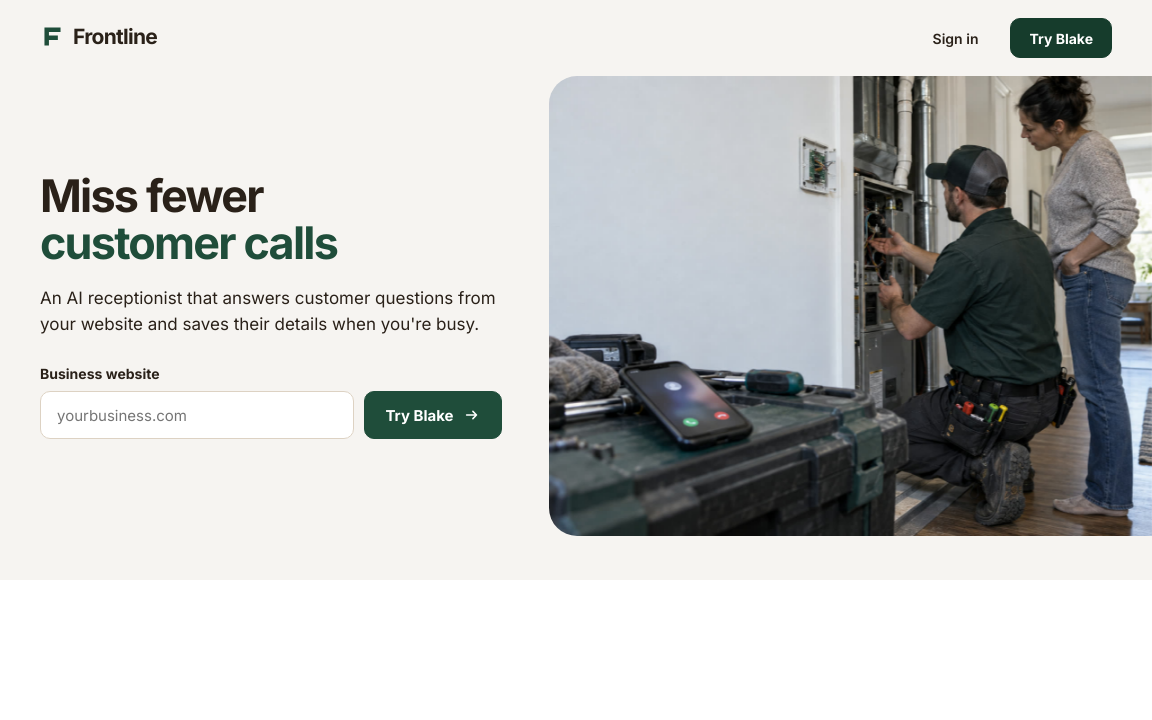
Test: aborts preparation and ignores its late response after the visitor changes the website
Later steps or results of the test are not shown.
Type "first.example.org" into the field labelled "Business website". click: (197, 415)
box: left=40, top=391, right=354, bottom=439
Then press Enter
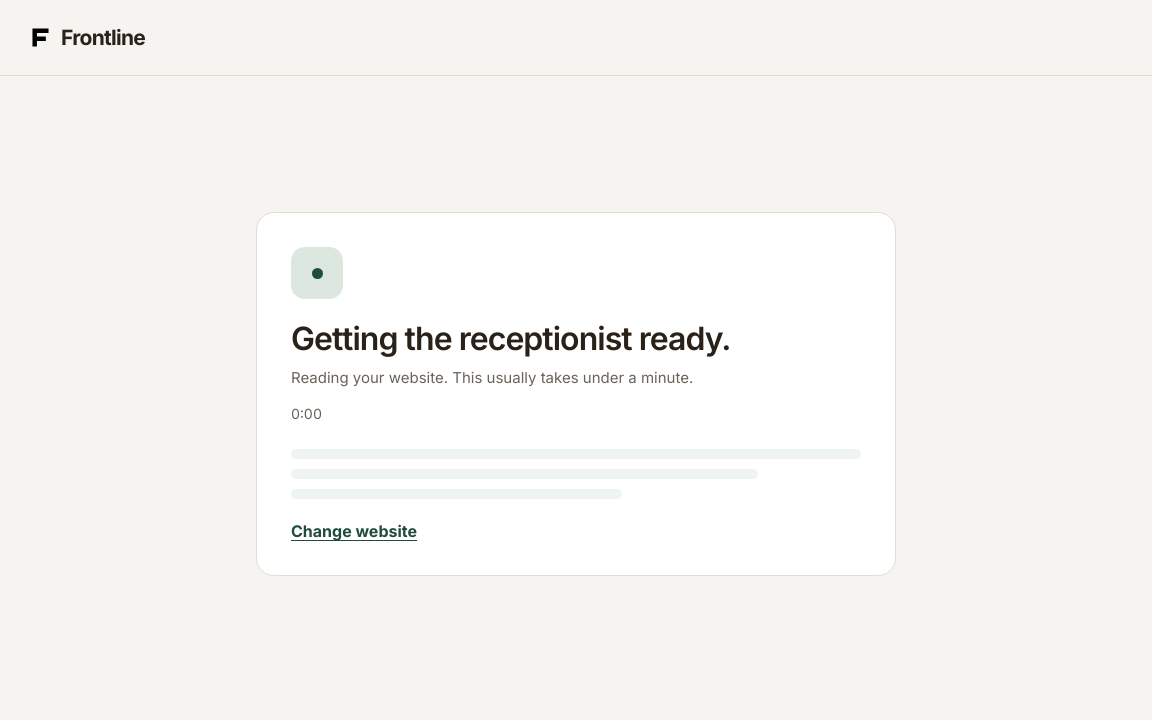
Click the button "Change website". click: (354, 531)
box: left=291, top=521, right=417, bottom=541
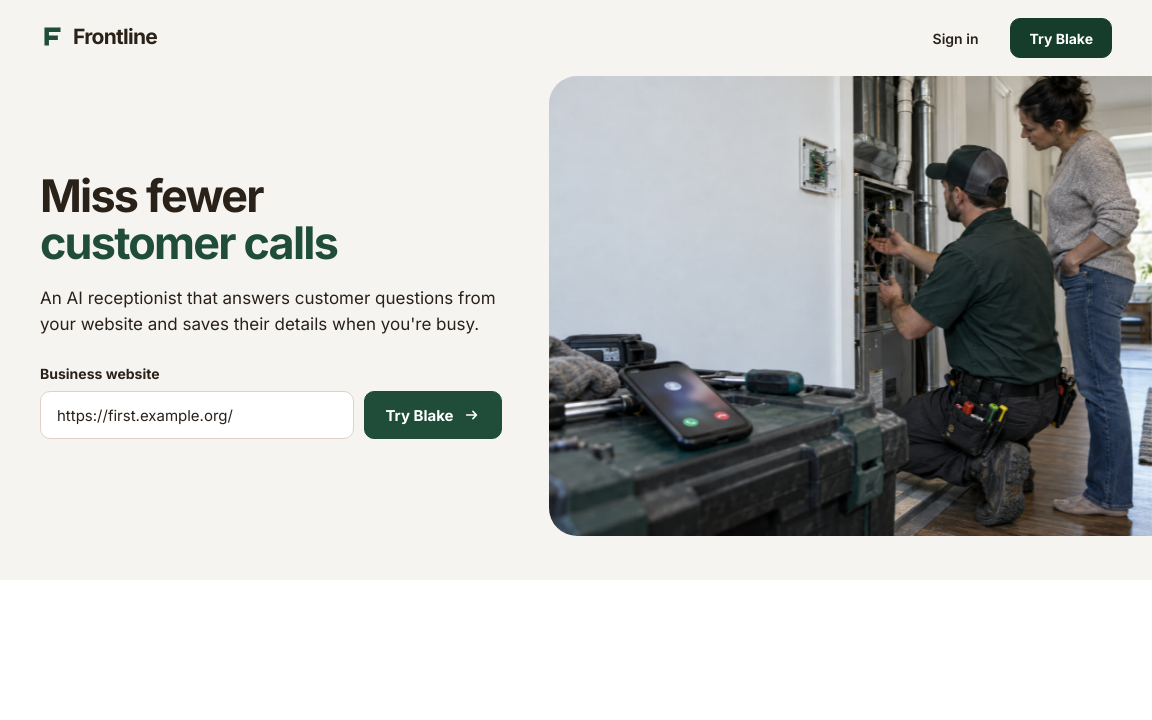
Now the field labelled "Business website" holds "https://first.example.org/", box left=40, top=391, right=354, bottom=439
